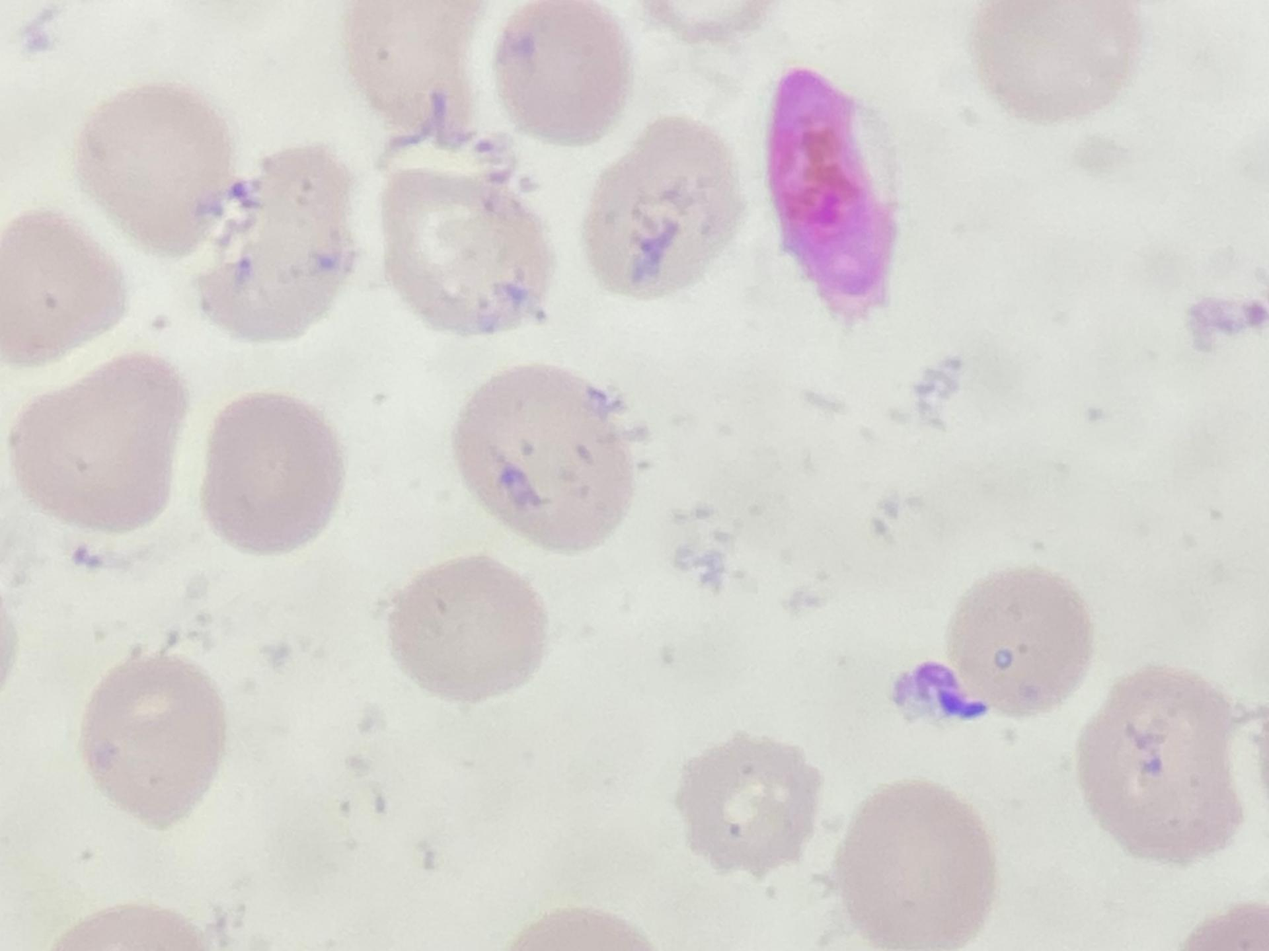Infected: (765, 66, 908, 325)
Uninfected: (451, 364, 633, 553), (10, 351, 192, 531), (193, 146, 349, 347), (1077, 669, 1236, 859), (377, 164, 550, 333), (582, 114, 735, 302), (78, 83, 233, 259), (838, 783, 995, 951), (84, 655, 226, 830), (198, 390, 344, 555), (388, 551, 546, 702), (952, 562, 1097, 716), (968, 0, 1146, 125), (674, 734, 821, 876), (0, 209, 131, 364), (492, 0, 629, 143)
